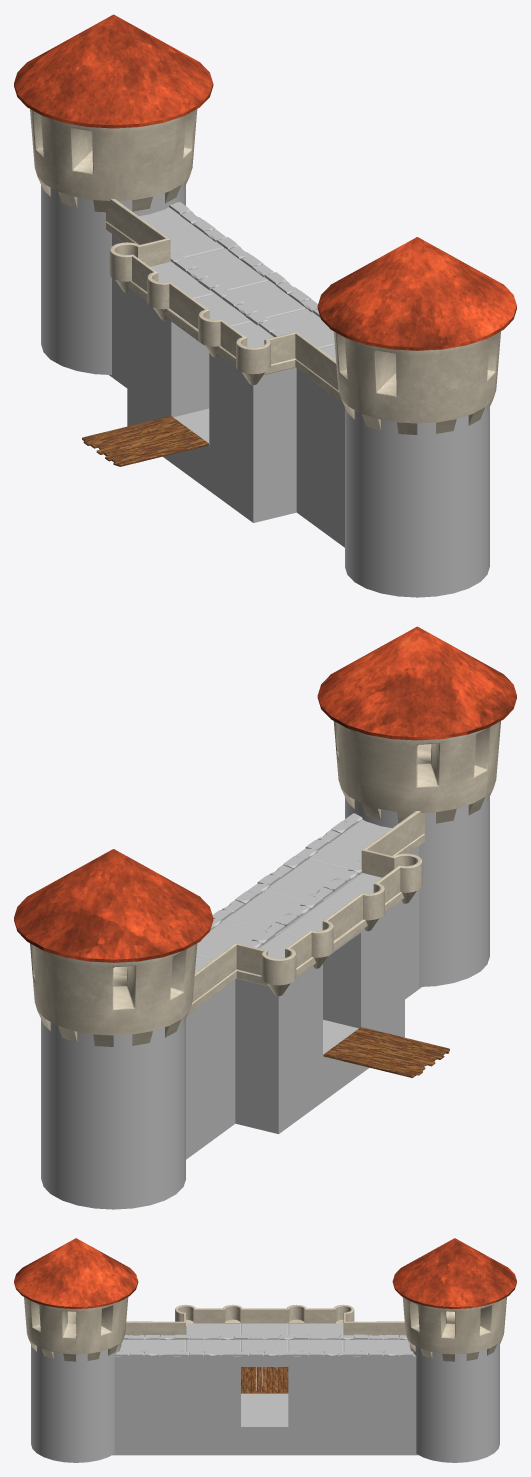
Rendered from wall.fbx.
3 renders of one model, top to bottom at view 1: azimuth 30°, elevation 25°; view 2: azimuth 150°, elevation 25°; view 3: azimuth 270°, elevation 25°, orthographic. The views are drawn at different scales.
Parts seen in each view (by area): view 1: Cube.004, Cylinder, Cube.006, Cube.005, Cube.007; view 2: Cube.004, Cylinder, Cube.006, Cube.005, Cube.007; view 3: Cube.004, Cylinder, Cube.006, Cube.007.
Boxes of the visible parts, <box> form: Cube.004: <box>14,14,516,597</box>; Cylinder: <box>106,199,338,390</box>; Cube.006: <box>169,202,320,317</box>; Cube.005: <box>106,222,342,402</box>; Cube.007: <box>170,248,287,336</box>; Cube.004: <box>14,626,516,1209</box>; Cylinder: <box>192,811,424,1002</box>; Cube.006: <box>210,813,362,930</box>; Cube.005: <box>188,834,424,1014</box>; Cube.007: <box>244,859,361,948</box>; Cube.004: <box>14,1238,516,1462</box>; Cylinder: <box>125,1304,405,1336</box>; Cube.006: <box>115,1351,413,1356</box>; Cube.007: <box>123,1334,407,1339</box>.
Bounding box in the file's own units: 1173 × 1467 × 3227.
